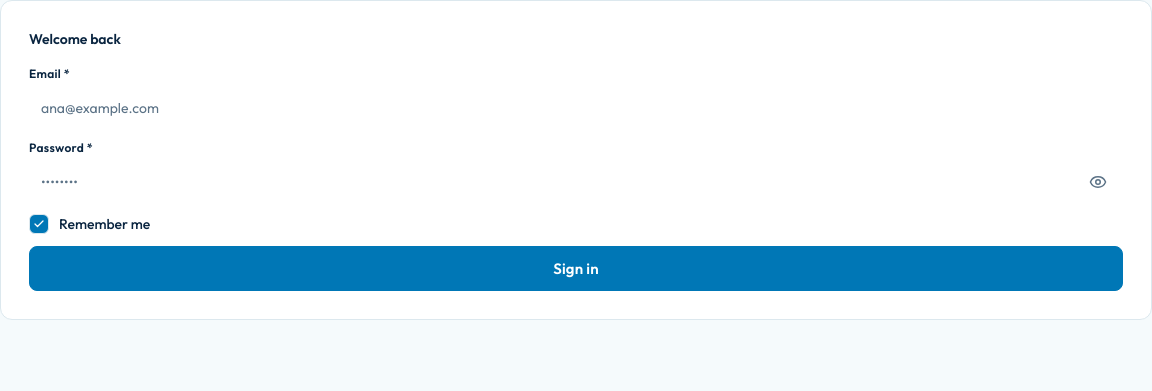
Test case: SigninForm › shows loading then the generic envelope error (no enumeration)
Type "ana@x.com" into the field with placeholder "ana@example.com" at (576, 108), box [41, 88, 1111, 128]
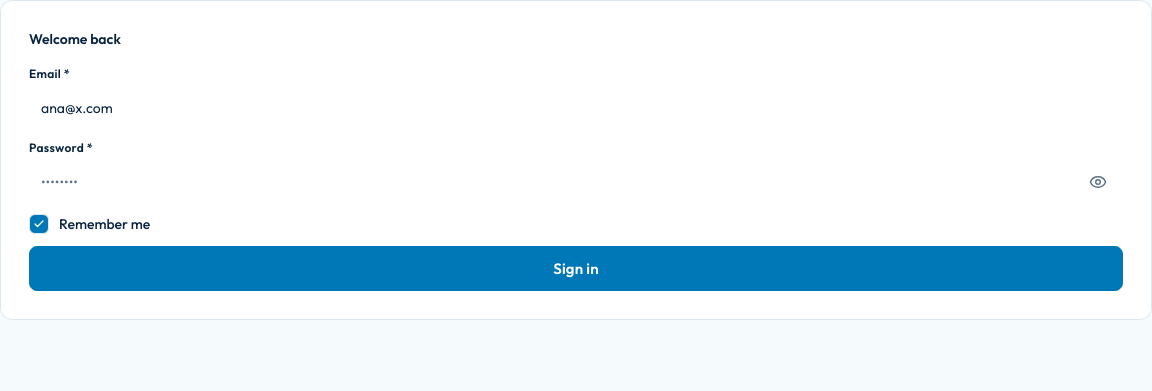
Type "secret123" into the password field with placeholder "••••••••" at (559, 182), box [41, 162, 1077, 202]
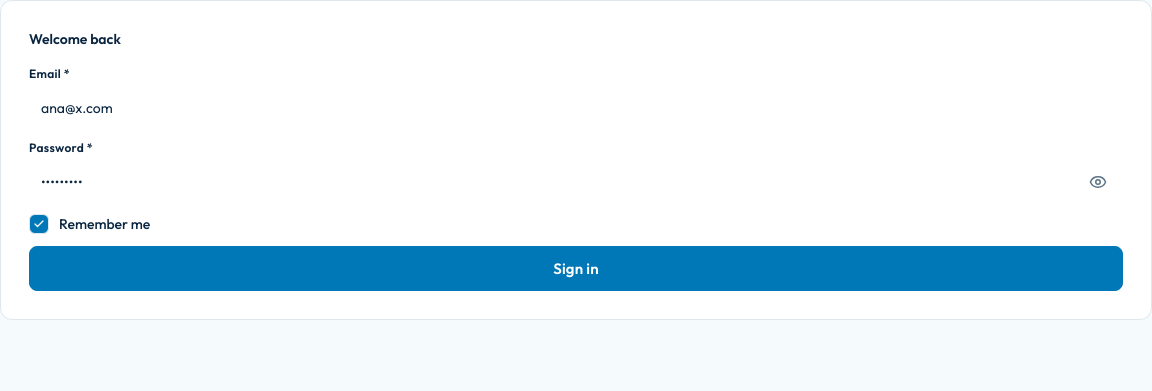
Submit the form, box [29, 66, 1123, 291]
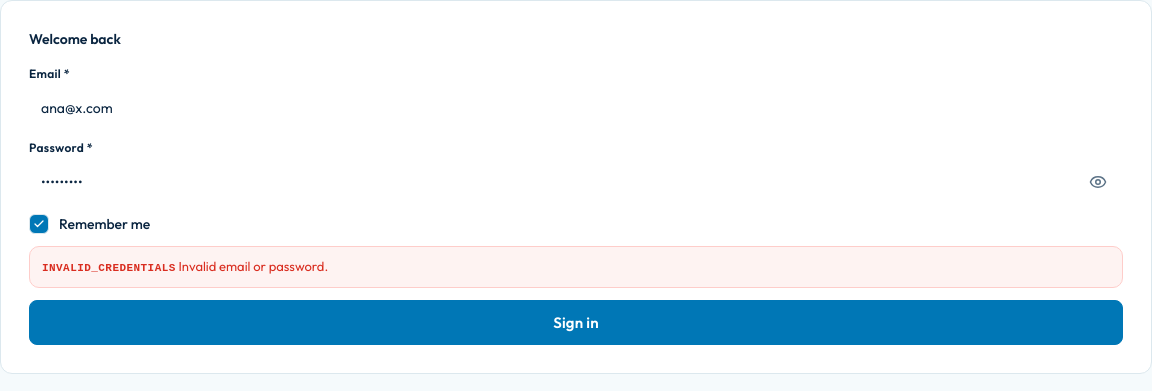
Result: the message shows "Invalid email or password." at [178, 258, 328, 274]
